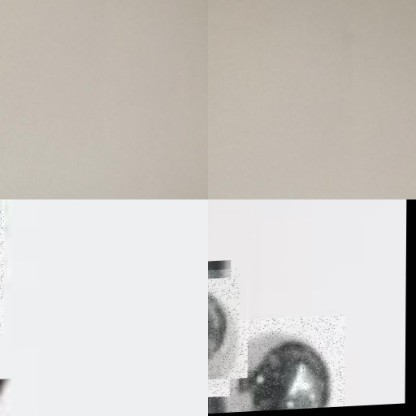ironball: (208, 317, 344, 415), (208, 270, 239, 393)
